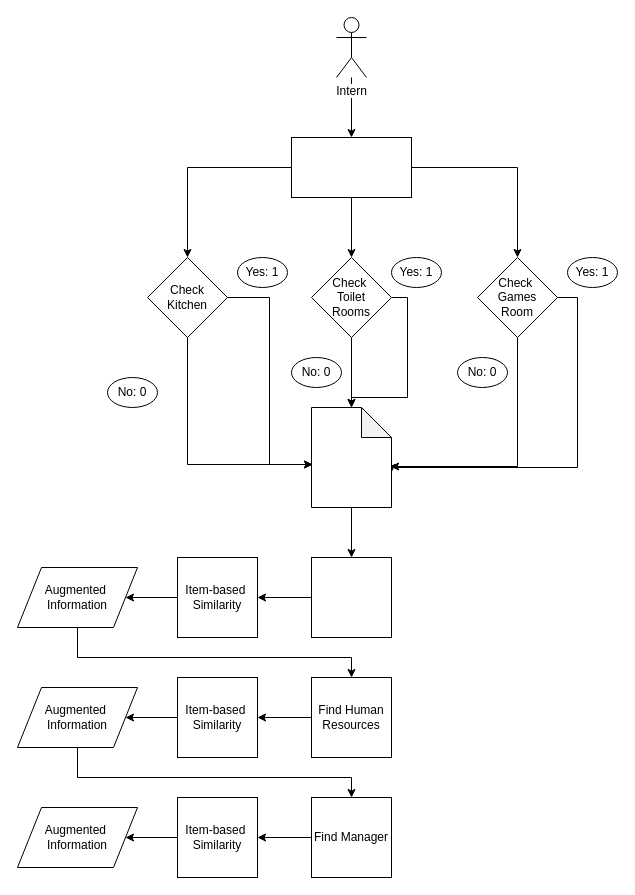
Some shapes in this 635 by 895 pixel diagram are drawn without their labels. The centre of each missing label's shape, as x and y in pixels:
"Find Secretary" goes at point (351, 597).
"Tickbox the preferences" goes at point (351, 167).
"User-Query" goes at point (351, 457).
